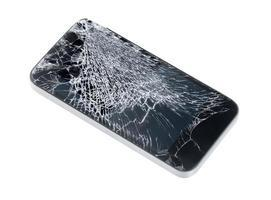Crack: (17, 15, 245, 179)
